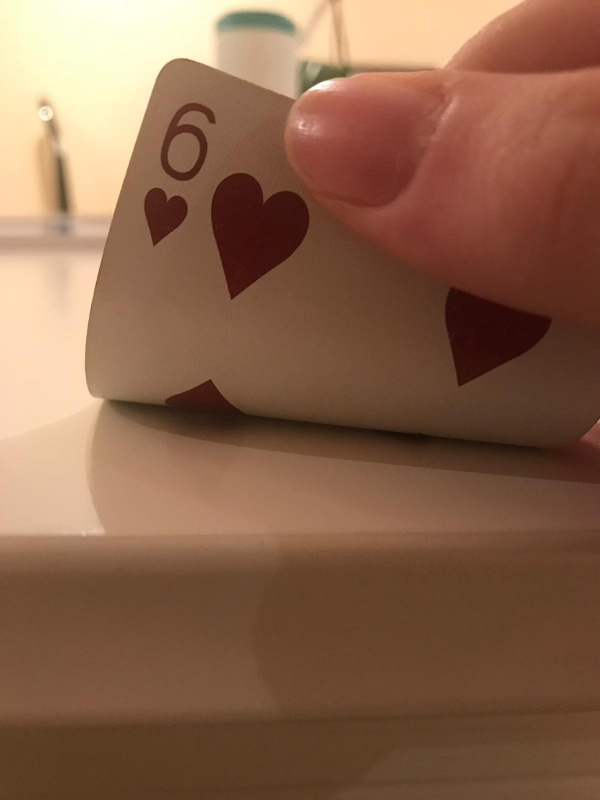H6: (141, 94, 212, 246)
